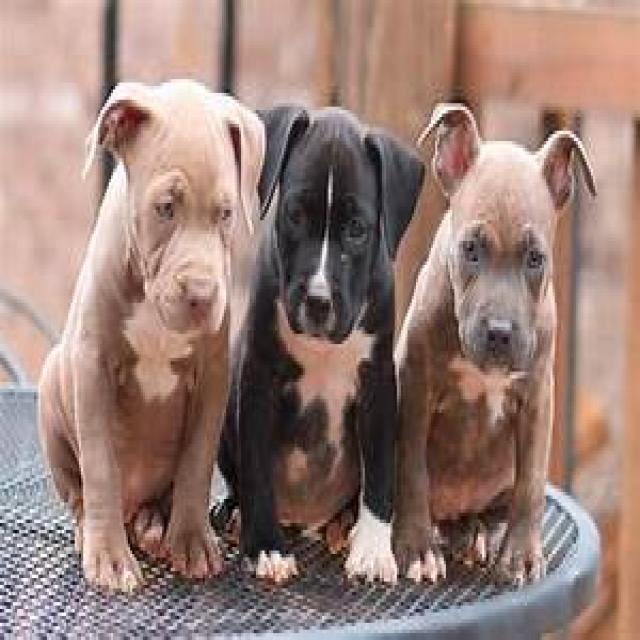dog: (39, 81, 265, 592), (219, 109, 424, 583), (394, 105, 595, 584)
